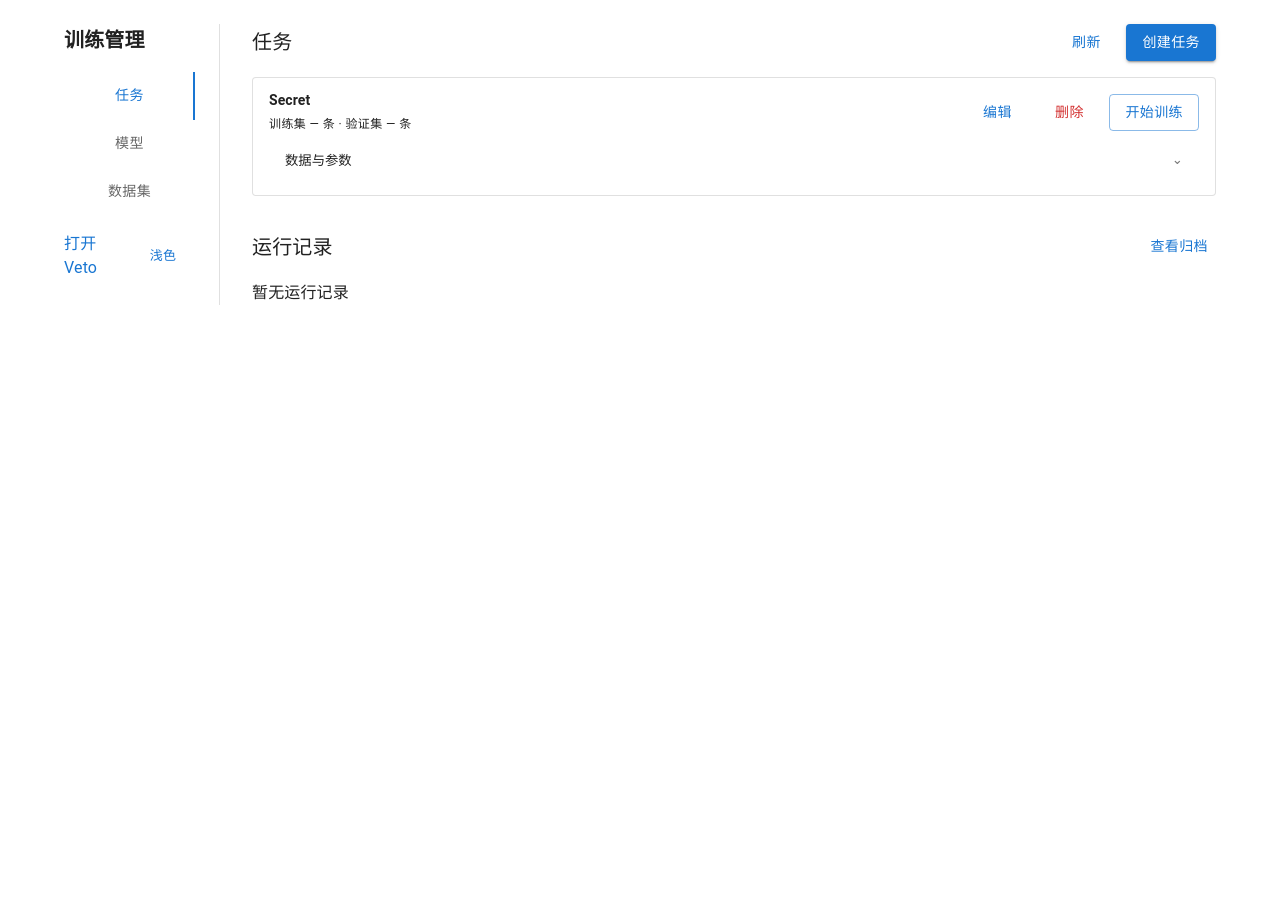
create saves a recipe without starting training
The width and height of the screenshot is (1280, 900).
Expected: the heading "Secret" is shown, [269,92,310,108]
Click the button "创建任务".
click(1171, 42)  # box [1126,24,1216,60]
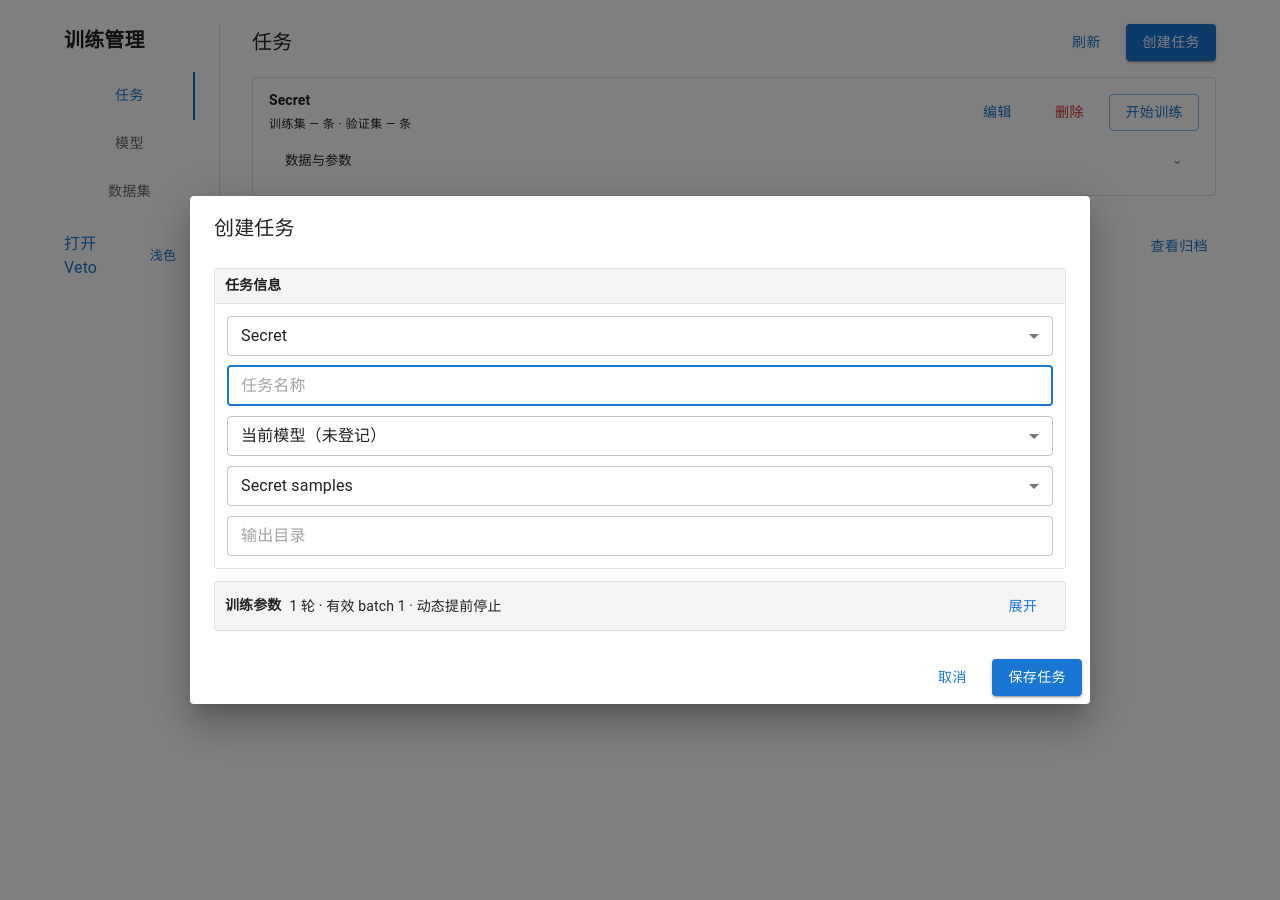
Type "New task" into the field labelled "任务名称".
click(640, 386); type("New task")  # box [227,366,1053,406]
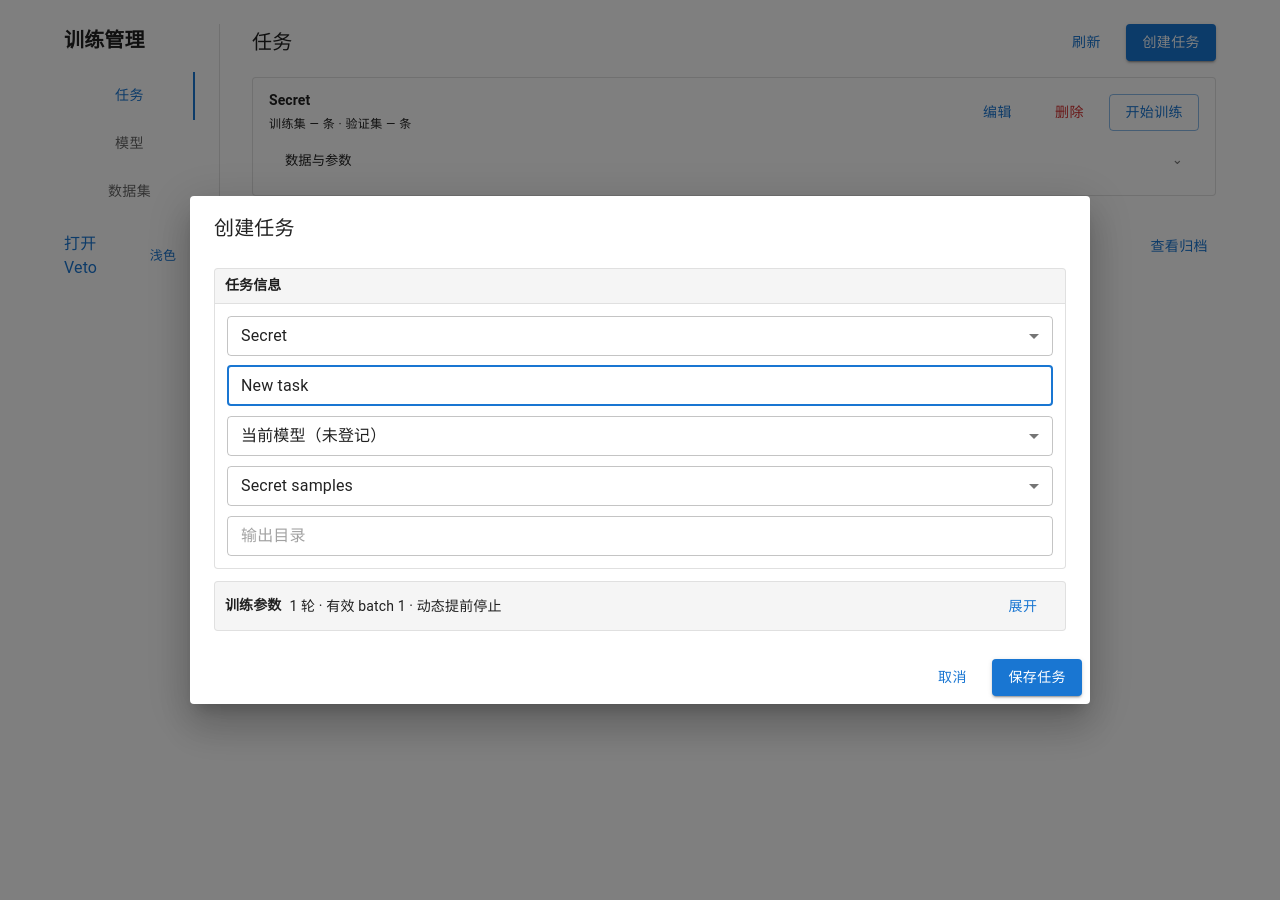
Type "D:/test-output" into the field labelled "输出目录".
click(640, 536); type("D:/test-output")  # box [227,516,1053,556]
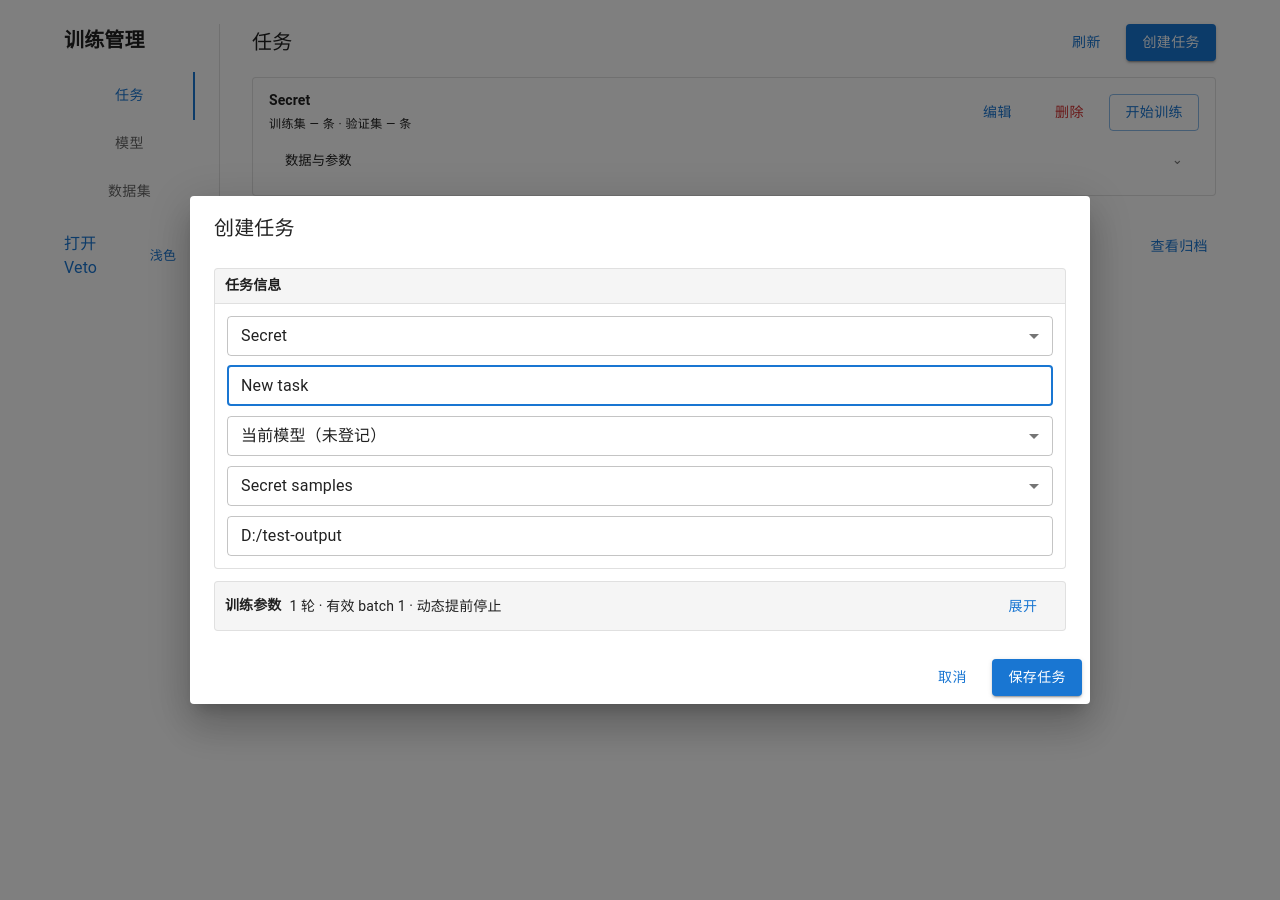
Click the button "保存任务".
click(1037, 678)  # box [992,660,1082,696]
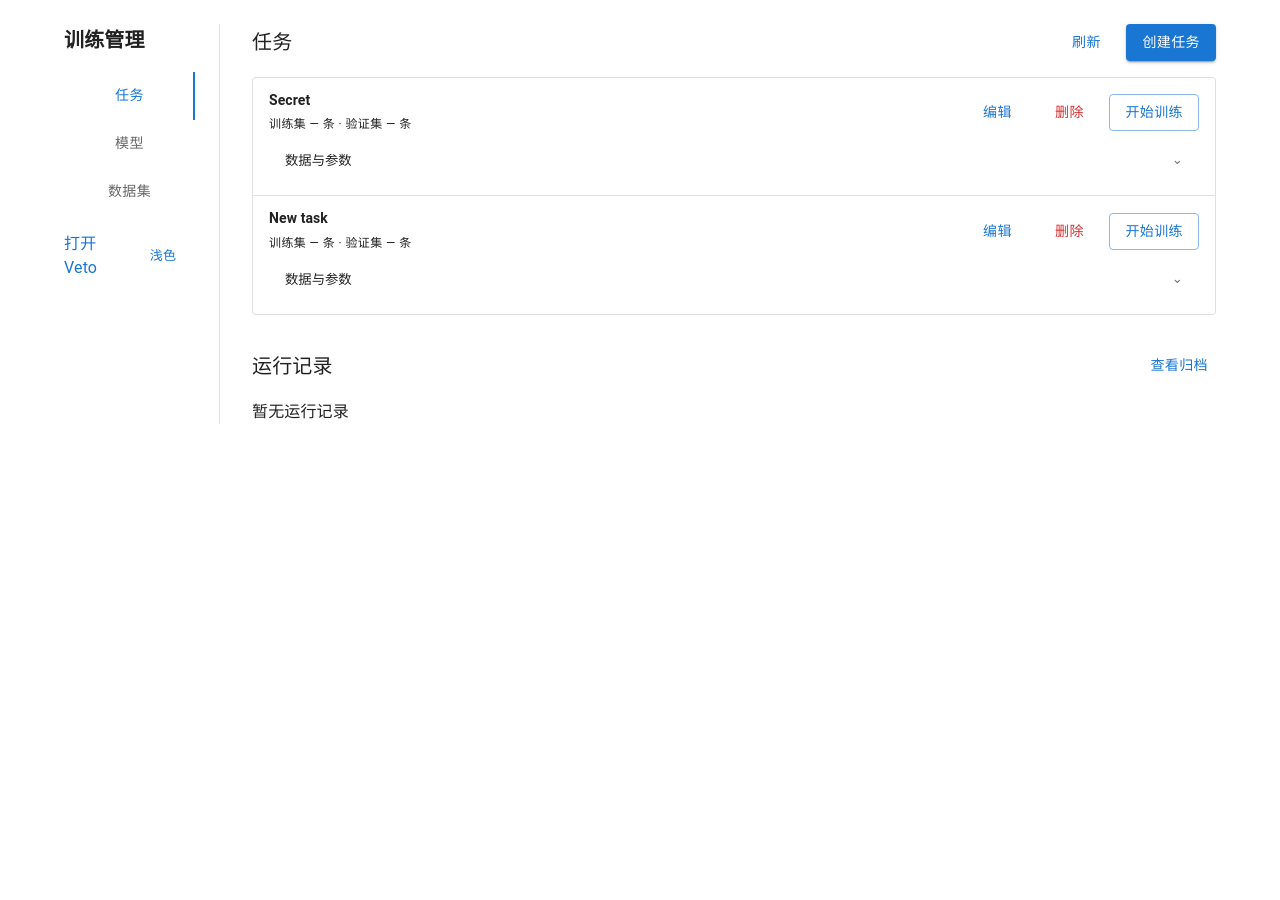
Expected: the heading "New task" is shown, [269,210,328,226]
